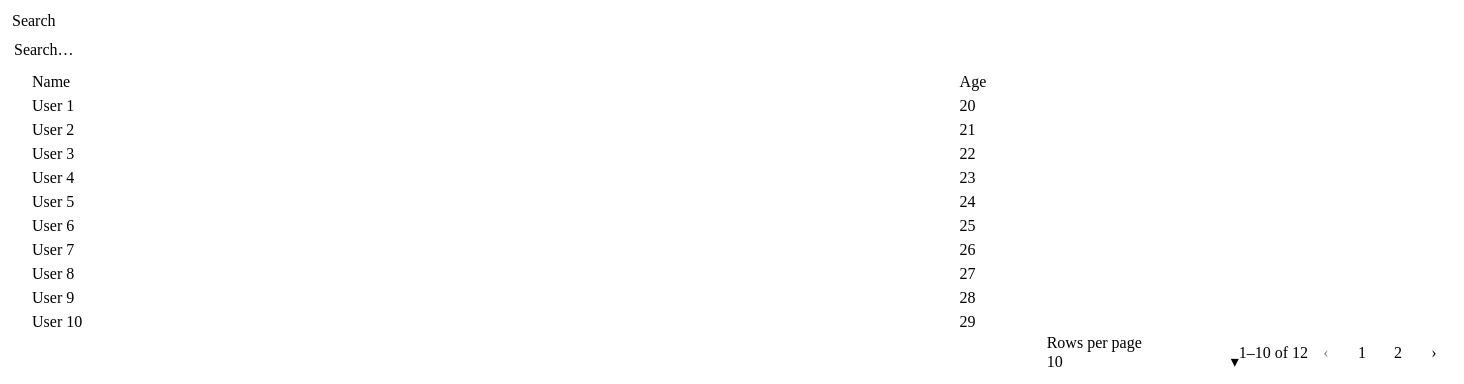
Test: global search filters rows and resets to page 1
In the search field labelled "Search": point(140, 50) [12,40,268,60], type "User 11"
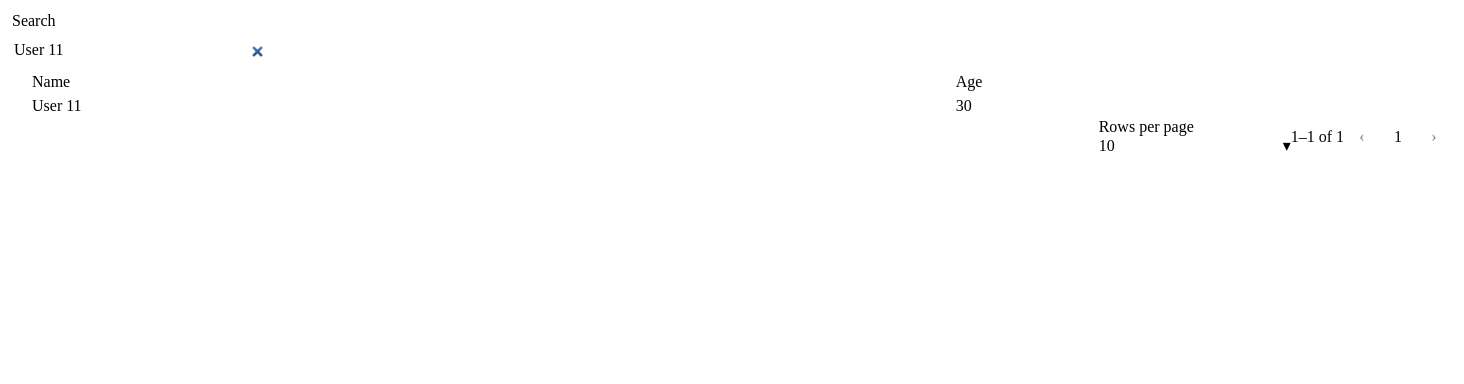
expect the text "User 11" is shown: met, box [32,94,956,118]
expect the text "1–1 of 1" is shown: met, box [1291,128,1344,146]
